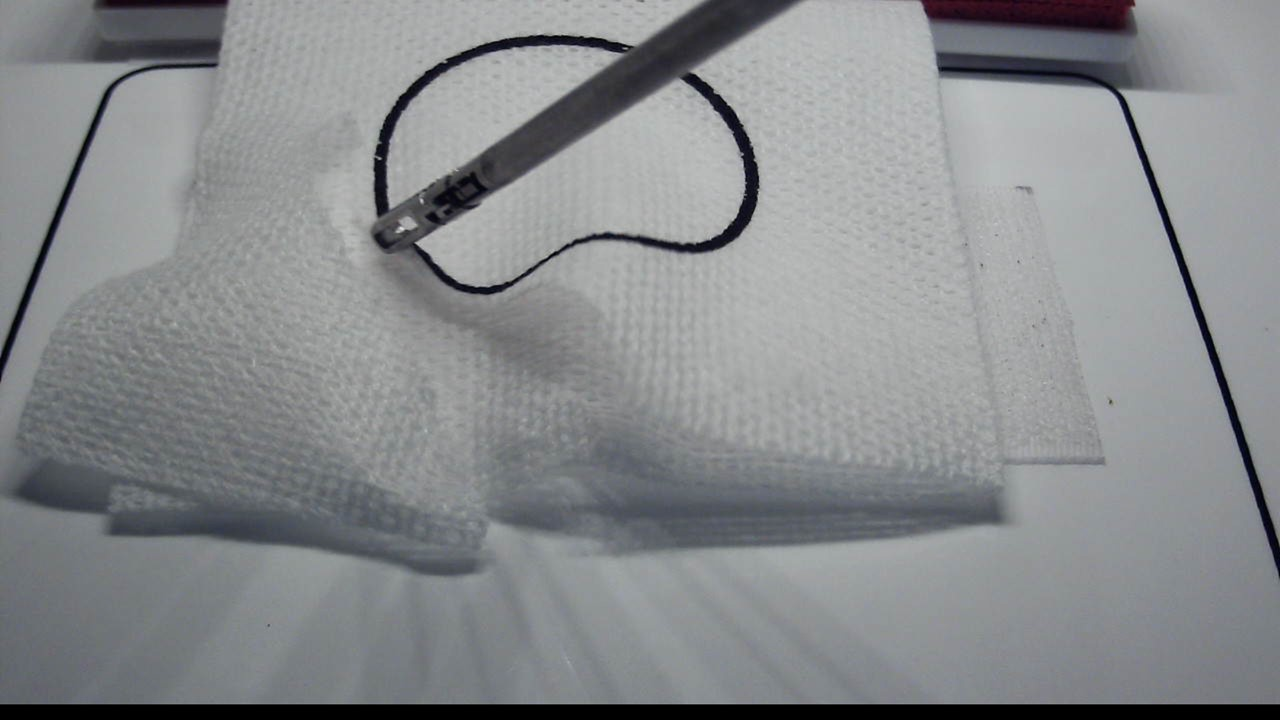Circle: (374, 35, 761, 294)
Grasper: (371, 180, 458, 258)
